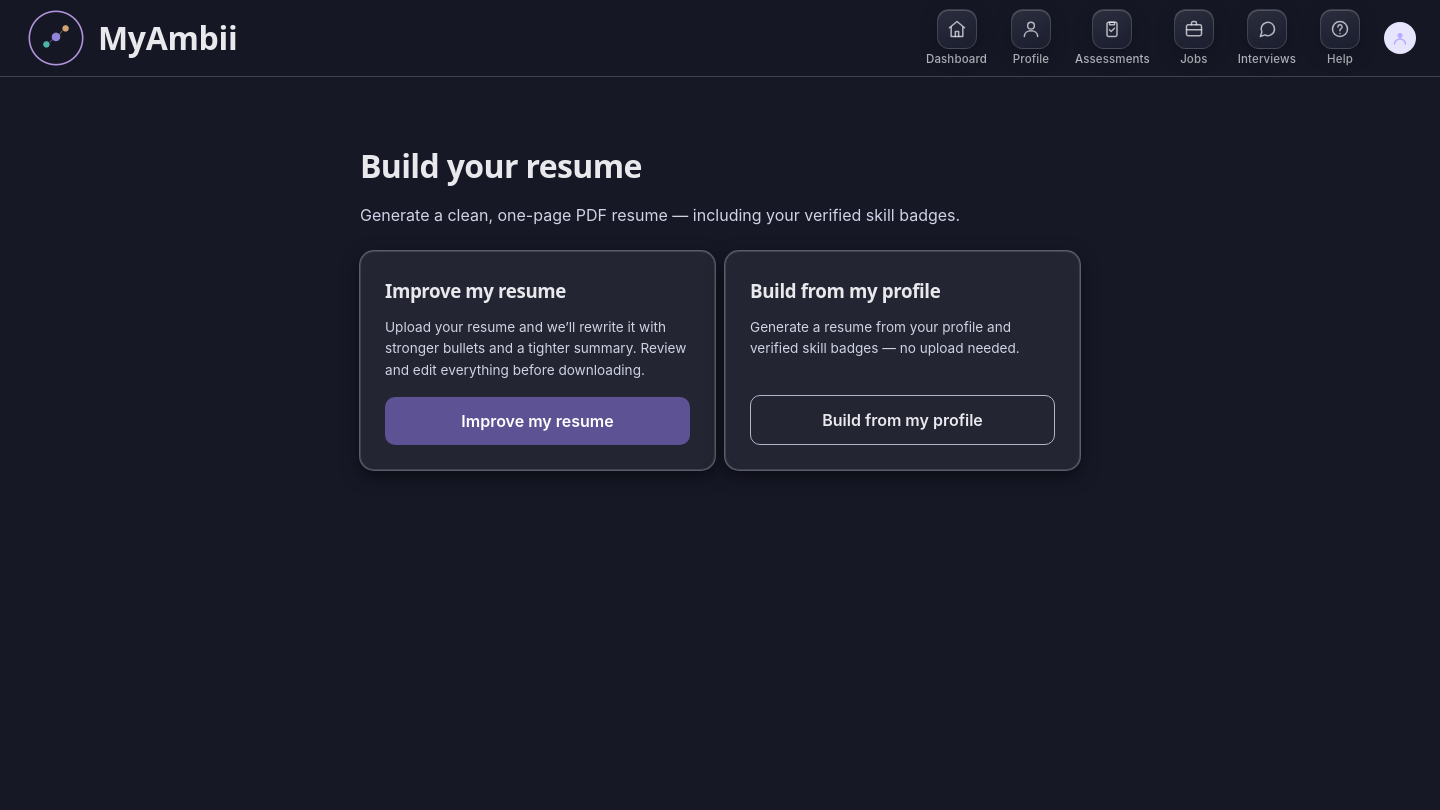
Test: Resume builder — portfolio skill selector › defaults to the groups that overlap a verified badge, when any exist
Click the button "Build from my profile": click(902, 420) [750,395,1055,445]
(page scrolled)
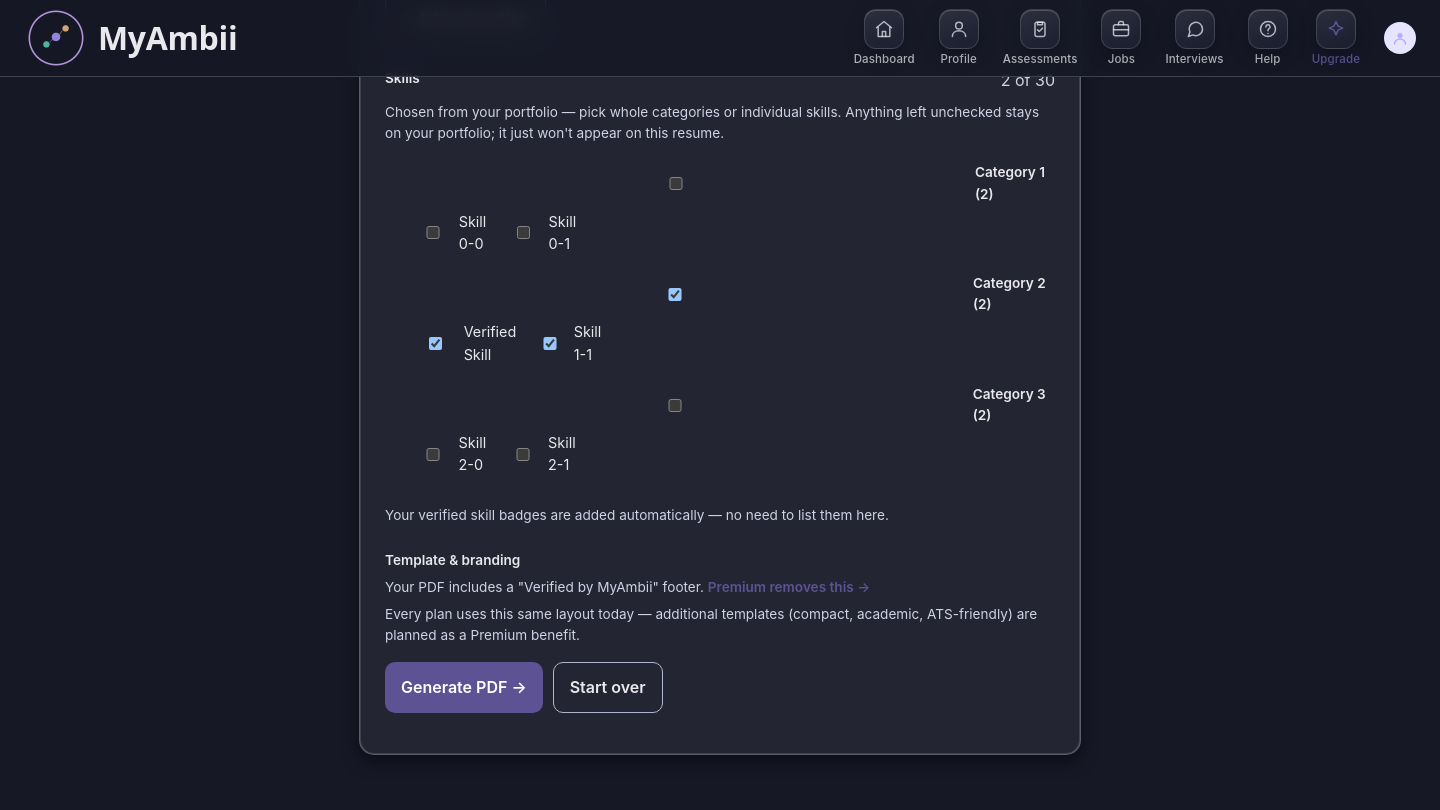
Result: the checkbox labelled "Category 2 (2)" is checked at [385,288,965,301]
Result: the checkbox labelled "Category 1 (2)" is not checked at [385,177,967,190]
Result: the checkbox labelled "Category 3 (2)" is not checked at [385,399,965,412]
